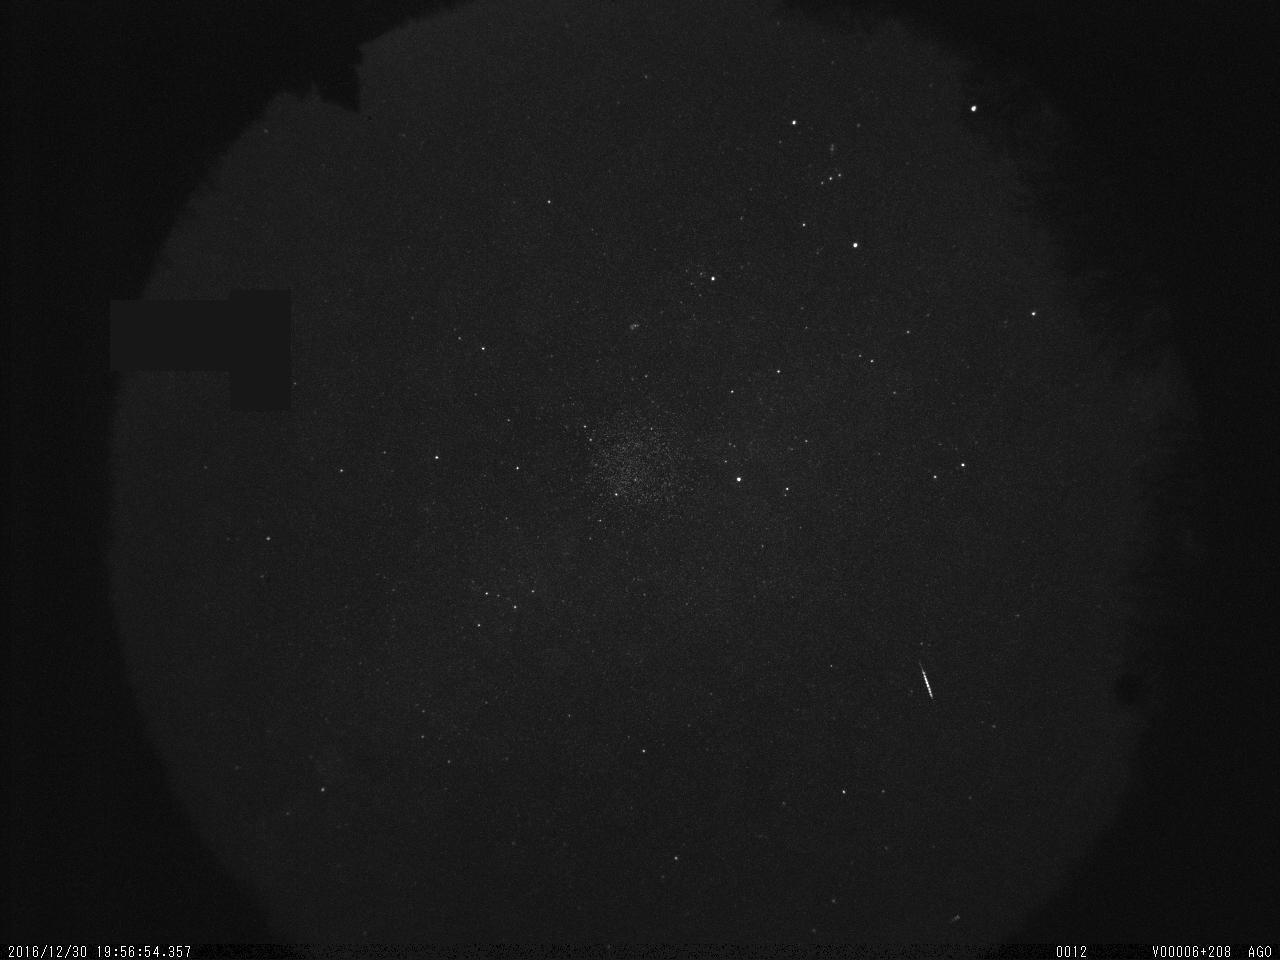Meteor: (915, 656, 943, 709)
